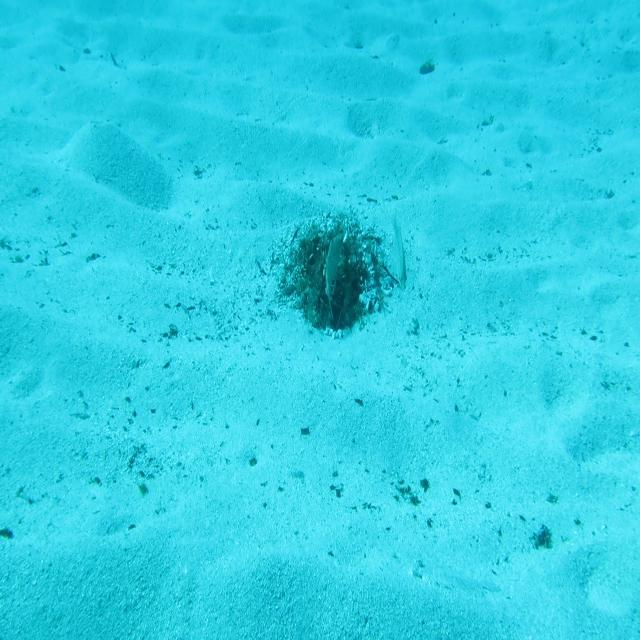LF: (321, 226, 350, 322)
female: (390, 205, 412, 298)
nest: (261, 213, 392, 334)
